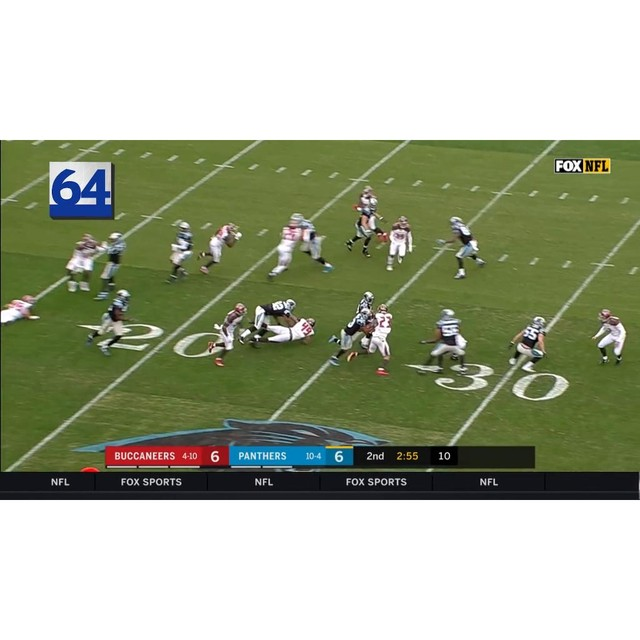american-football-player: (420, 309, 469, 374), (86, 288, 132, 354), (354, 304, 394, 376), (206, 303, 248, 366), (238, 299, 297, 343), (292, 213, 335, 273), (63, 232, 103, 296), (267, 215, 305, 282), (328, 308, 371, 366), (447, 216, 487, 278), (198, 222, 243, 274), (507, 316, 548, 372), (345, 200, 384, 258), (95, 231, 128, 297), (591, 308, 628, 365), (250, 316, 317, 347), (165, 224, 196, 284), (384, 215, 413, 272), (1, 295, 41, 327)
